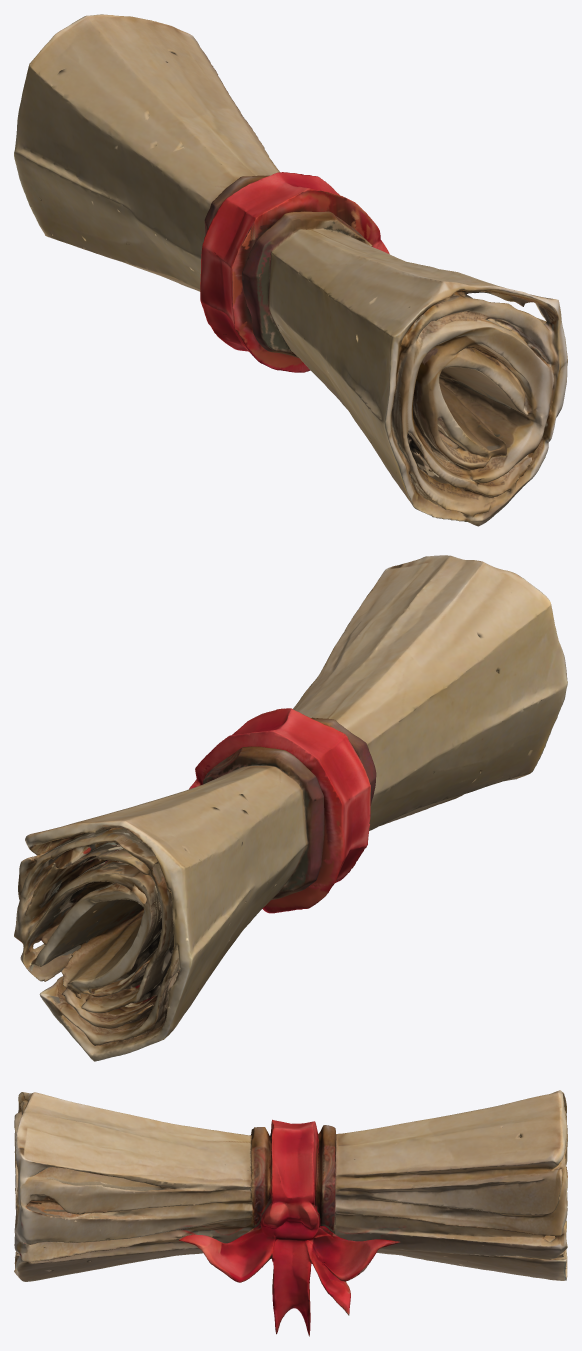
Rendered from Scroll_Bundle_0730021531_texture.fbx.
The picture shows the model from 3 angles, top to bottom: view 1: azimuth 30°, elevation 25°; view 2: azimuth 150°, elevation 25°; view 3: azimuth 270°, elevation 25°; orthographic projection. The views are drawn at different scales.
Visible parts, largest first — view 1: input; view 2: input; view 3: input.
Boxes of the visible parts, bbox=[...] form: input: bbox=[14, 14, 567, 526]; input: bbox=[14, 555, 567, 1061]; input: bbox=[14, 1090, 567, 1336].
Size of the model in its own units: 64.91 by 79.07 by 200.
1 material, 1 textured.
